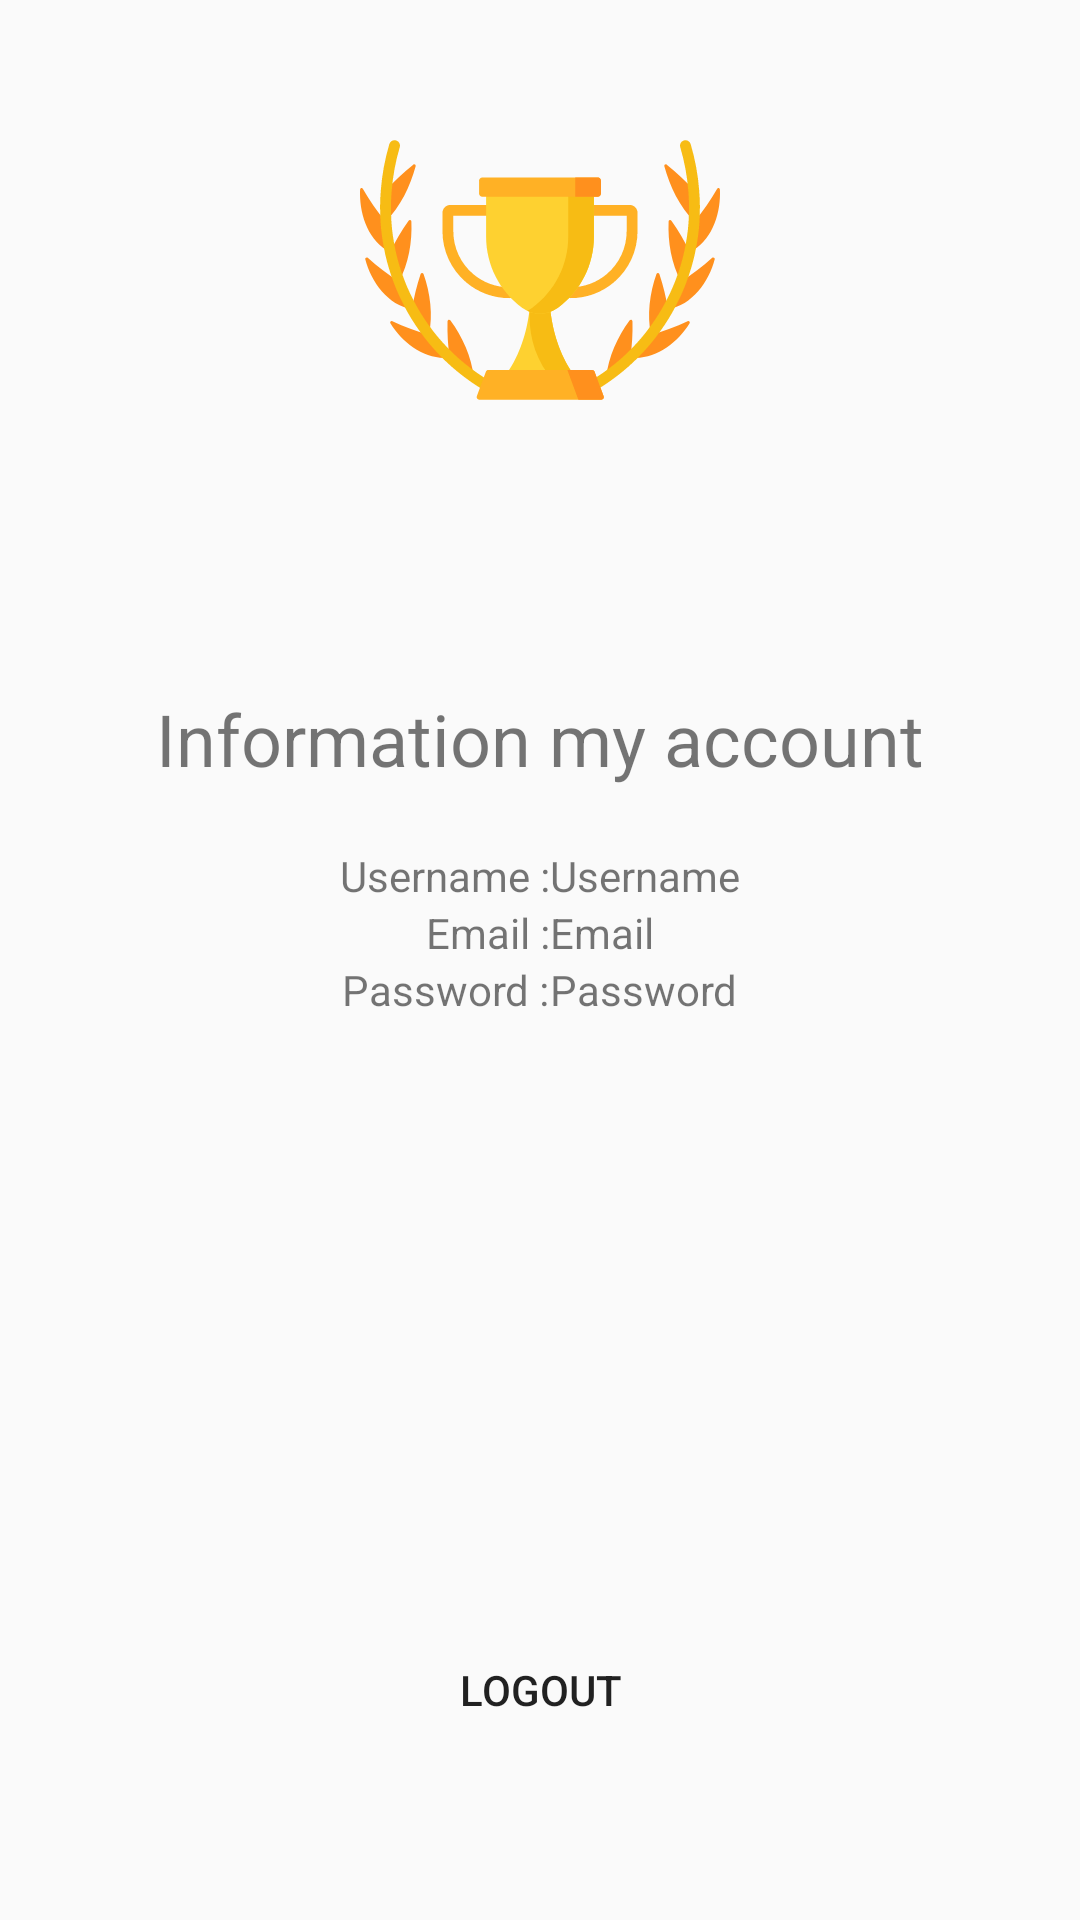

Where icons sit on this 1080w x 1920h app screen, as (x1, y1, x2, y2):
winner: (360, 140, 720, 400)
